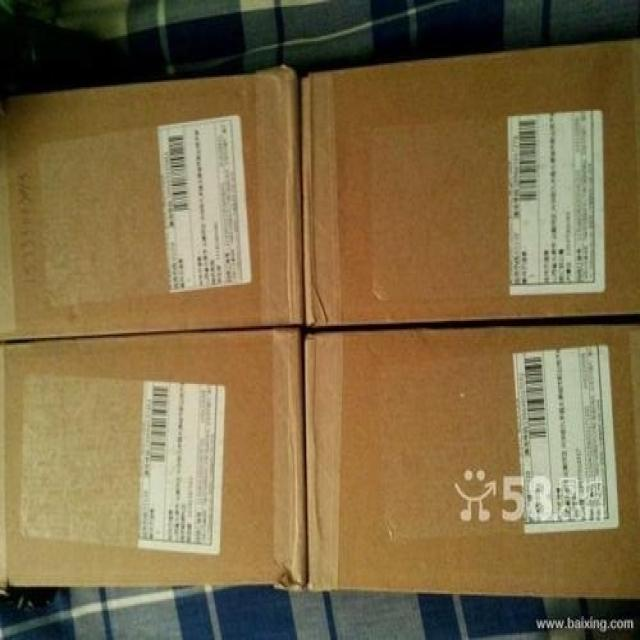box: (301, 38, 640, 328), (305, 324, 640, 599), (0, 63, 305, 341), (0, 328, 308, 594)
